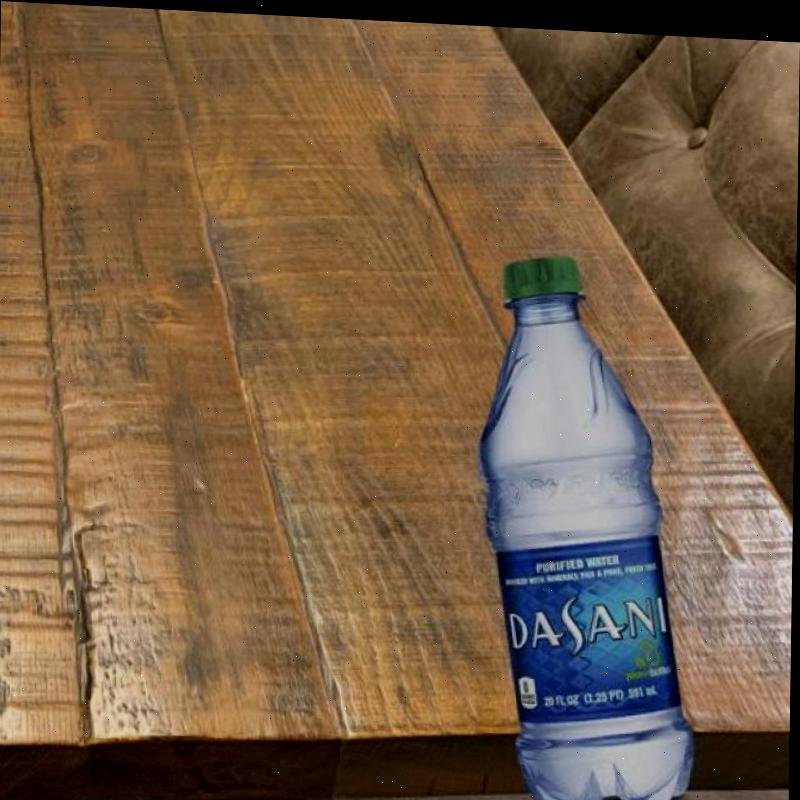botella: (474, 239, 703, 800)
